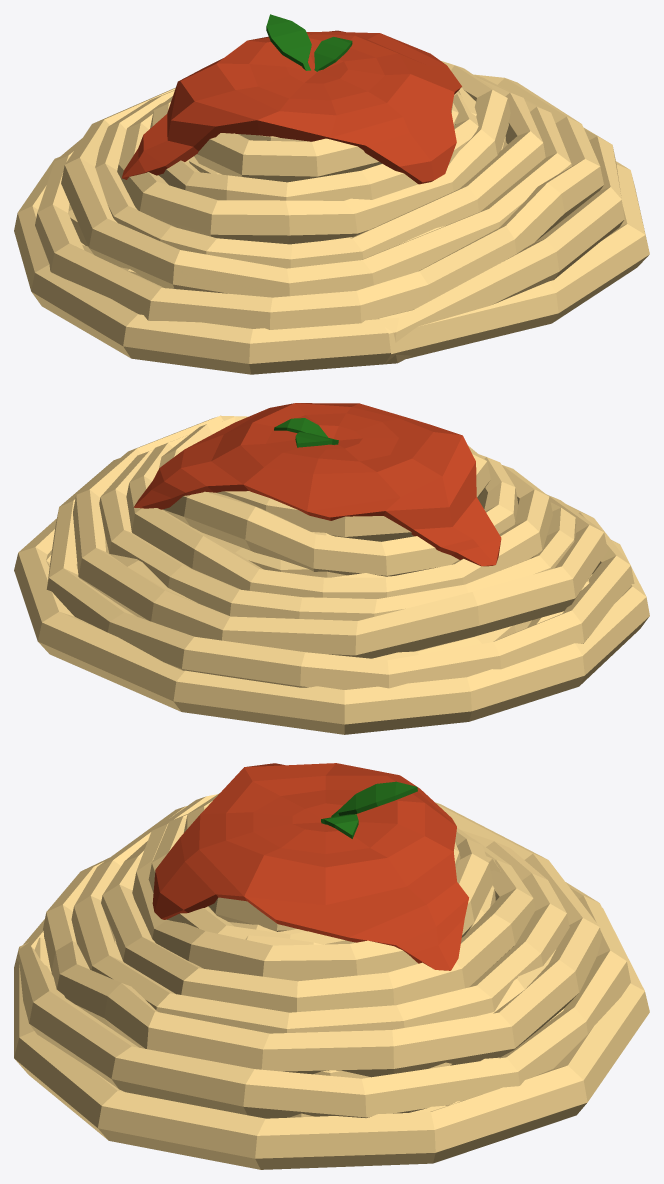
File: spagheti.fbx
3 views of the same model, one above another, from view 1: azimuth 30°, elevation 25°; view 2: azimuth 150°, elevation 25°; view 3: azimuth 270°, elevation 25° (orthographic). The views are drawn at different scales.
Visible parts, largest first — view 1: spagh; view 2: spagh; view 3: spagh.
Boxes of the visible parts, x1,y1,x2,y2 form: spagh: [14, 14, 649, 374]; spagh: [14, 403, 649, 734]; spagh: [14, 763, 649, 1169].
Bounding box in the file's own units: 111 × 39.37 × 98.56.
Materials: 1 (1 with a texture image).
